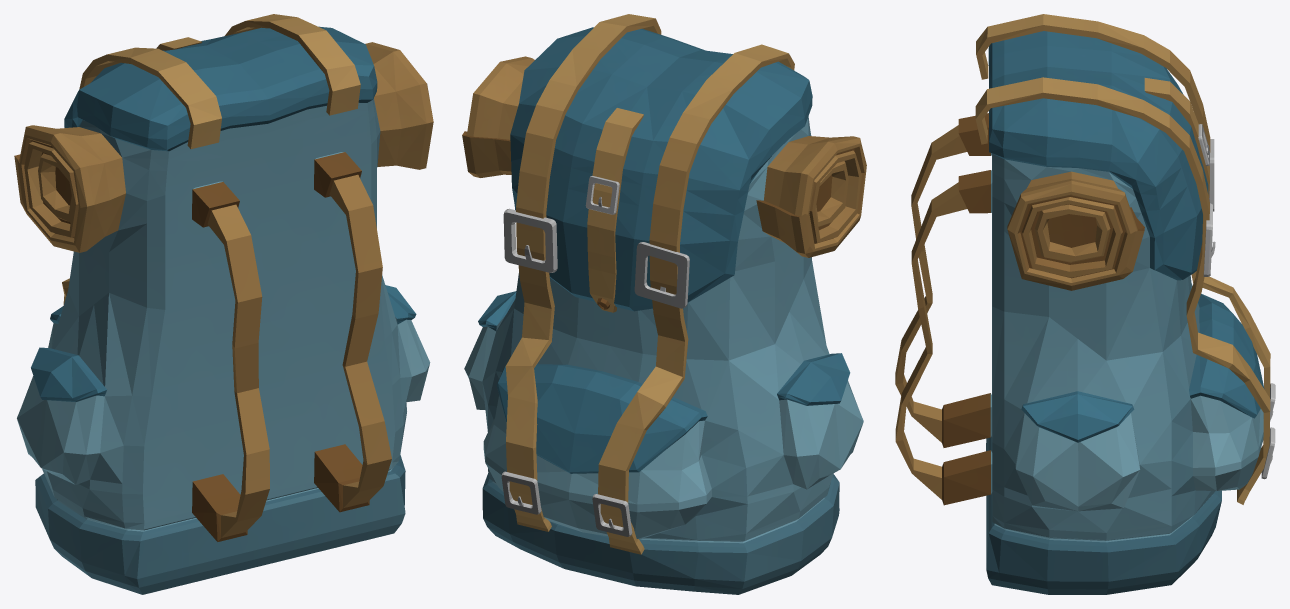
File: backpack_big.obj
The picture shows the model from 3 angles, left to right: view 1: azimuth 30°, elevation 25°; view 2: azimuth 150°, elevation 25°; view 3: azimuth 270°, elevation 25°; orthographic projection. The views are drawn at different scales.
Parts seen in each view (by area): view 1: backpack_big_Material, backpack_strap_Material; view 2: backpack_big_Material, backpack_strap_Material, backpack_strap_small_Material, backpack_buckle_2_Material, backpack_buckle_1_Material, backpack_buckle_3_Material, backpack_buckle_4_Material, backpack_buckle_small_Material; view 3: backpack_big_Material, backpack_strap_Material, backpack_strap_small_Material, backpack_buckle_1_Material.
Part boxes in pixels (box(x1,y1,x2,y2)): backpack_big_Material: box(14, 26, 433, 594); backpack_strap_Material: box(62, 14, 360, 304); backpack_big_Material: box(462, 27, 866, 594); backpack_strap_Material: box(505, 14, 794, 554); backpack_strap_small_Material: box(587, 108, 643, 312); backpack_buckle_2_Material: box(634, 242, 689, 308); backpack_buckle_1_Material: box(503, 208, 557, 272); backpack_buckle_3_Material: box(501, 471, 541, 514); backpack_buckle_4_Material: box(592, 494, 632, 536); backpack_buckle_small_Material: box(585, 176, 619, 214); backpack_big_Material: box(895, 31, 1264, 594); backpack_strap_Material: box(975, 14, 1270, 504); backpack_strap_small_Material: box(1144, 78, 1209, 197); backpack_buckle_1_Material: box(1203, 203, 1215, 276).
Size of the model in its own units: 0.6742 by 0.894 by 0.6307.
